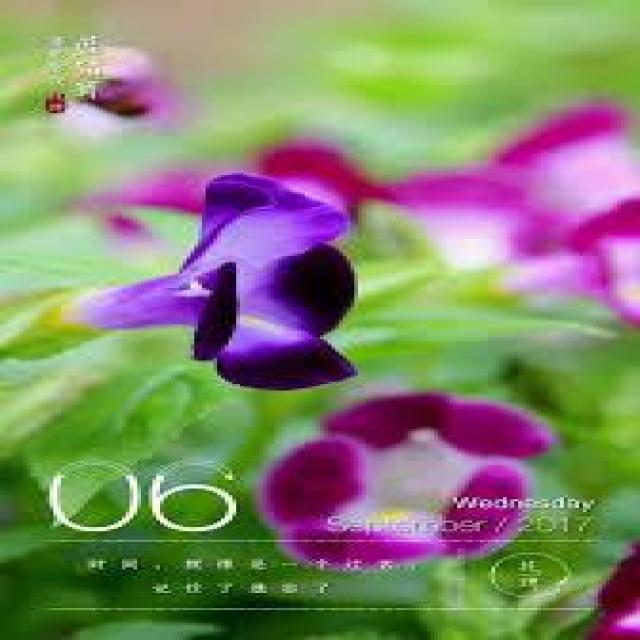organic waste: (78, 169, 387, 384), (246, 394, 546, 554)
